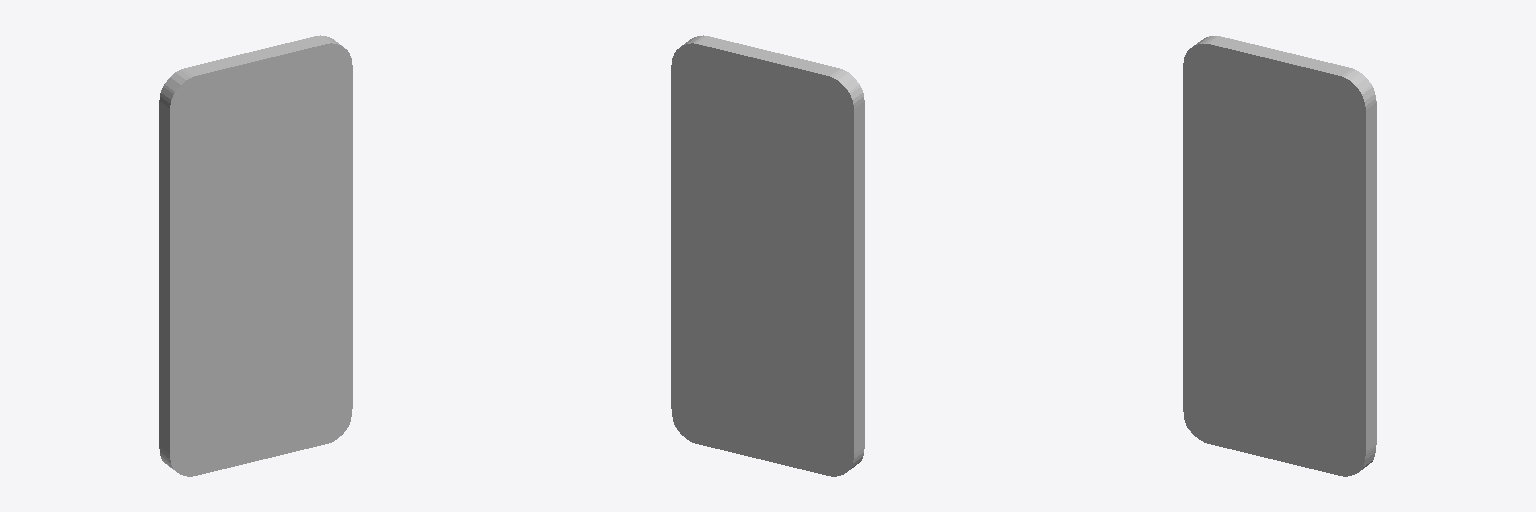
Rendered from iPhone 6.obj.
The picture shows the model from 3 angles: view 1: azimuth 30°, elevation 25°; view 2: azimuth 150°, elevation 25°; view 3: azimuth 330°, elevation 25°; orthographic projection.
Visible parts, largest first — view 1: Cube.002; view 2: Cube.002; view 3: Cube.002.
Part boxes in pixels (x1,y1,x2,y2): Cube.002: (159, 35, 352, 476); Cube.002: (671, 35, 864, 476); Cube.002: (1183, 36, 1376, 476).
Bounding box in the file's own units: 3.73 × 7.81 × 0.3834.